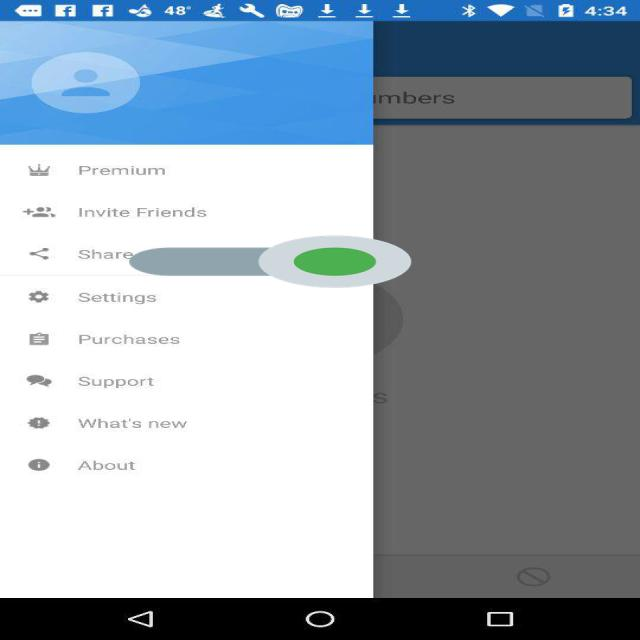social proof: (129, 213, 411, 310)
